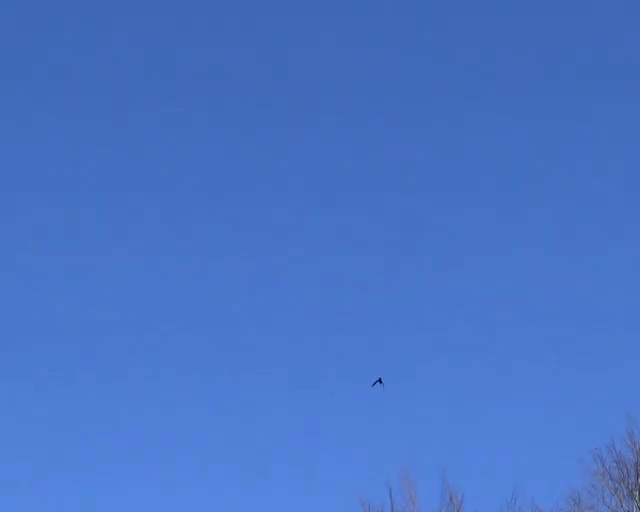BIRD: (372, 376, 383, 387)
